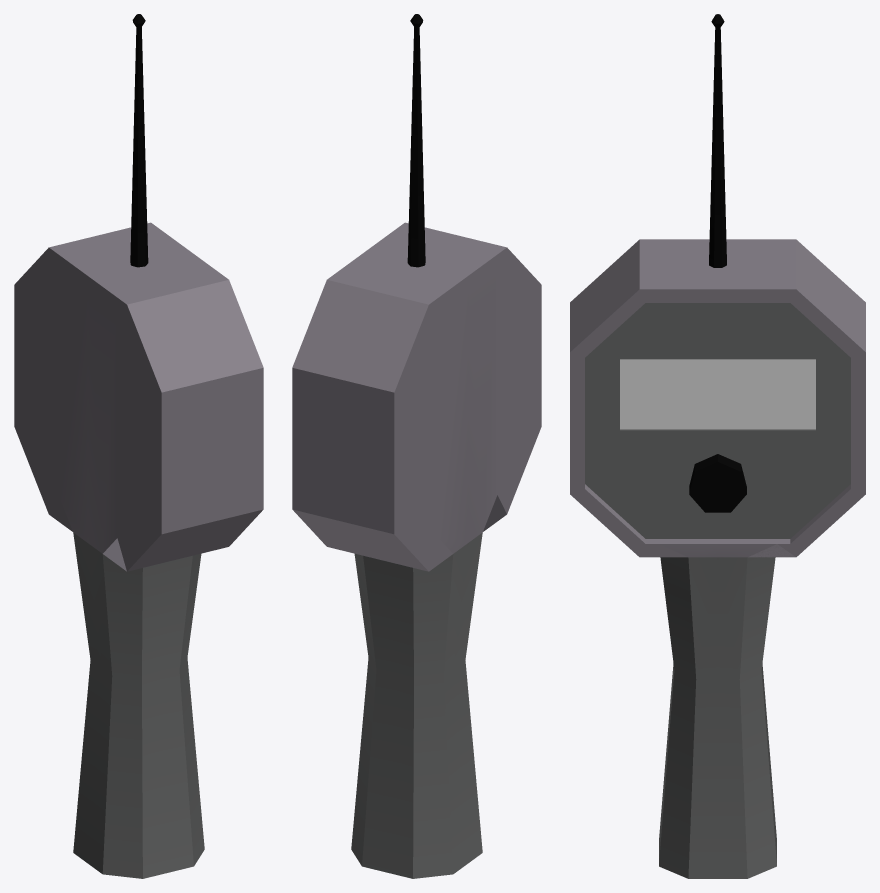
File: HackingToolProto.fbx
The picture shows the model from 3 angles, left to right: view 1: azimuth 30°, elevation 25°; view 2: azimuth 150°, elevation 25°; view 3: azimuth 270°, elevation 25°; orthographic projection.
Visible parts, largest first — view 1: HackingTool; view 2: HackingTool; view 3: HackingTool.
Boxes of the visible parts, x1,y1,x2,y2 form: HackingTool: [14, 14, 263, 878]; HackingTool: [292, 14, 541, 878]; HackingTool: [570, 14, 865, 878].
Size of the model in its own units: 21.19 by 157 by 50.
